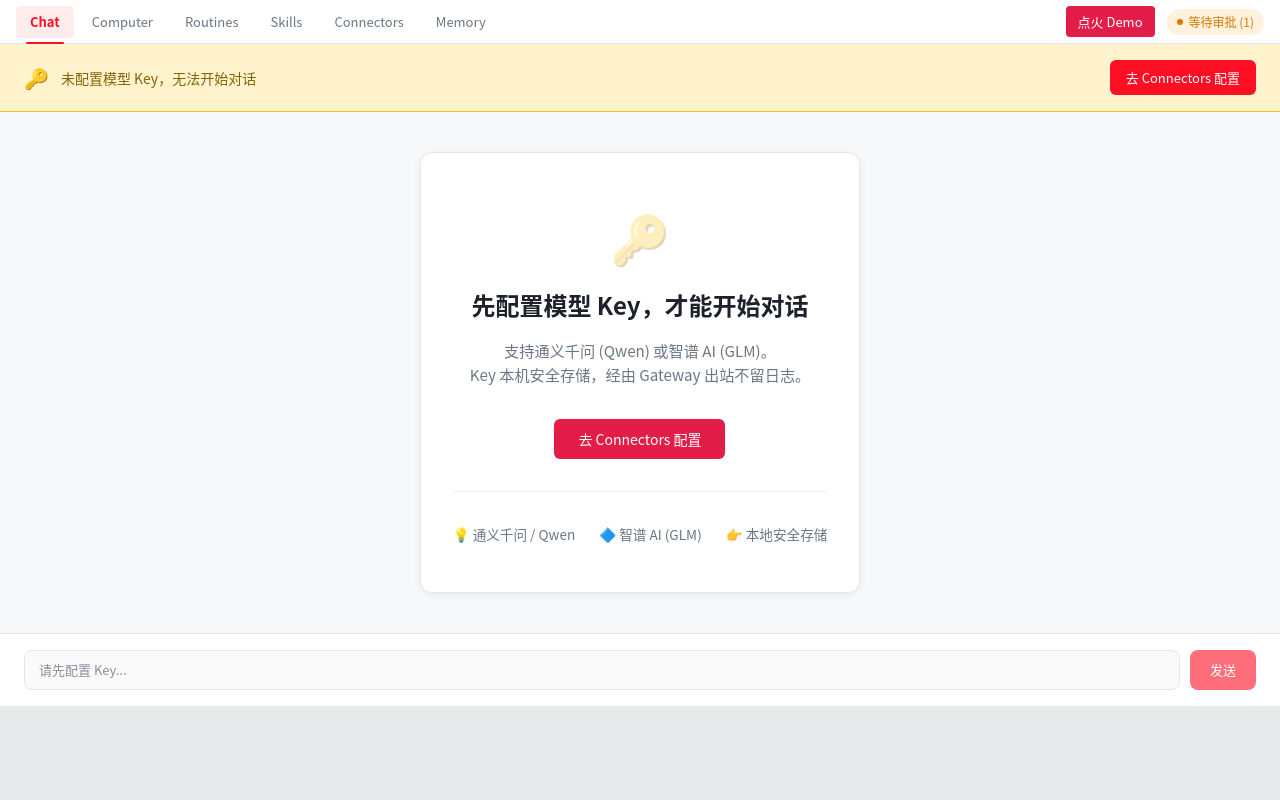
Test: TC-APPROVAL-PILL-INTERACTIVE: 审批 pill 可解除计数 › 场景 1: 点击 pill → 显示审批面板（非 alert） › should show approval panel when pill clicked
What coordinates should you click on to do the following:
click the element with class "wait"
I would click on:
 (1215, 22)
Its box is [1166, 8, 1264, 34].
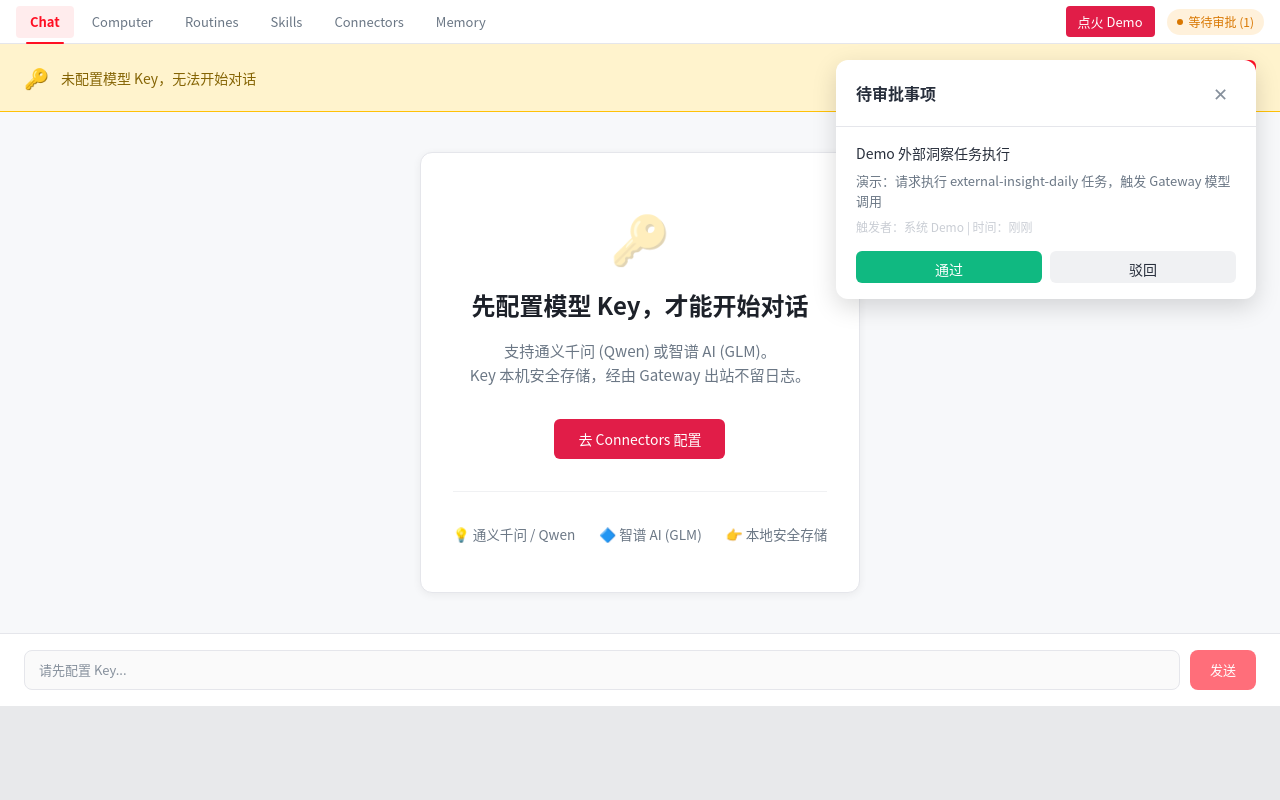
Expected: the element with class "approval-panel" is shown, [836, 60, 1256, 299]
